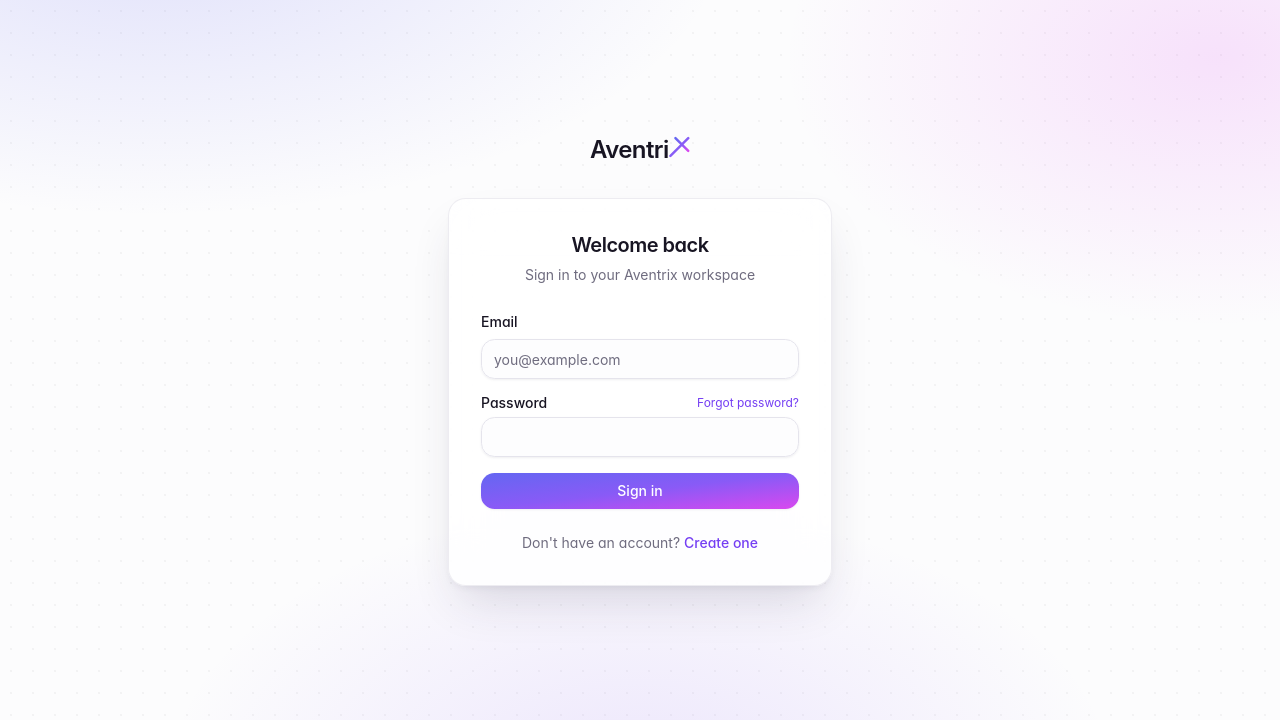
Scenario: LoginPage › submits credentials and surfaces a server-side error
Type "user@example.com" into the field labelled "Email" at (640, 359), box [481, 339, 799, 379]
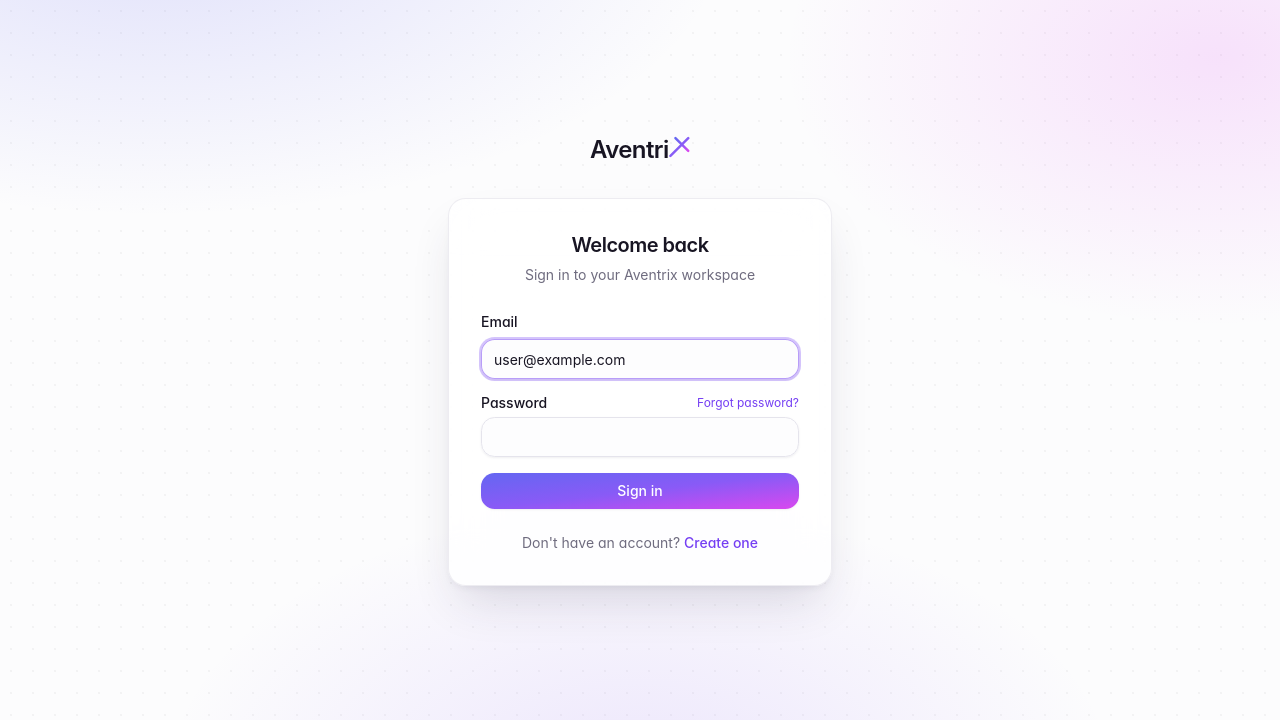
Type "wrong-password" into the password field labelled "Password" at (640, 437), box [481, 417, 799, 457]
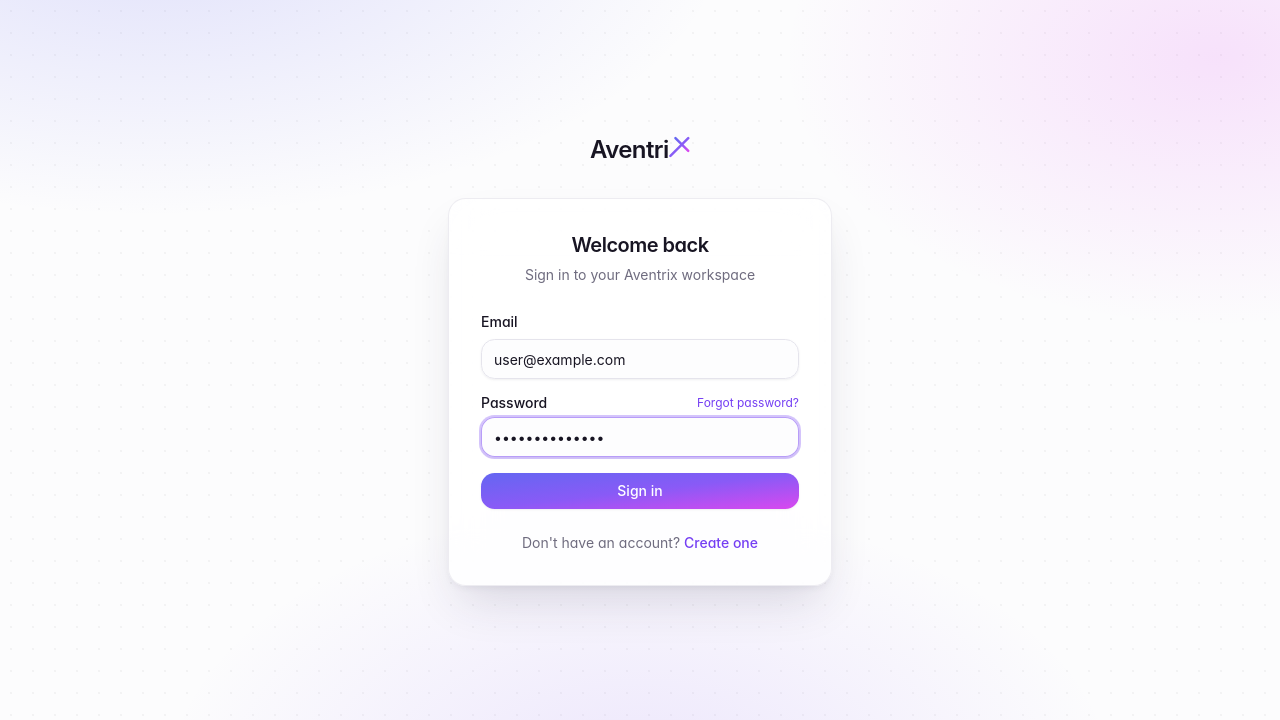
Click the button "Sign in" at (640, 491), box [481, 473, 799, 509]
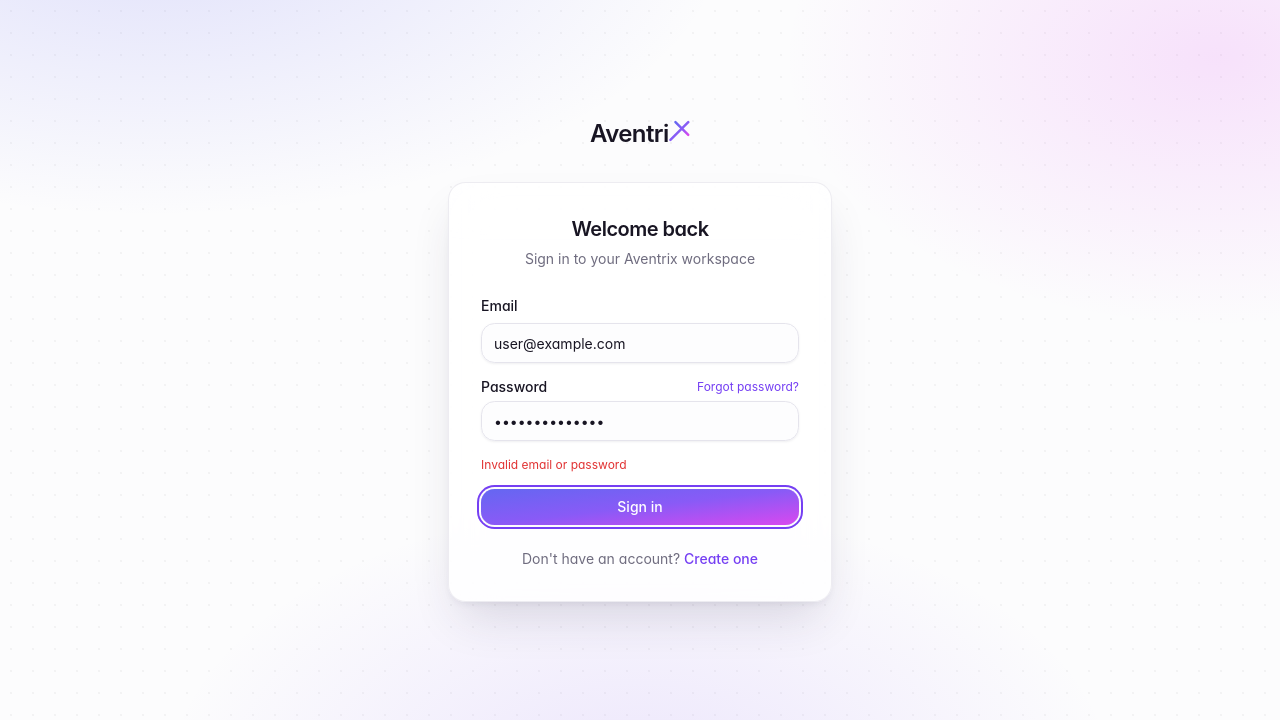
Result: the text "Invalid email or password" is shown at [481, 457, 626, 472]
